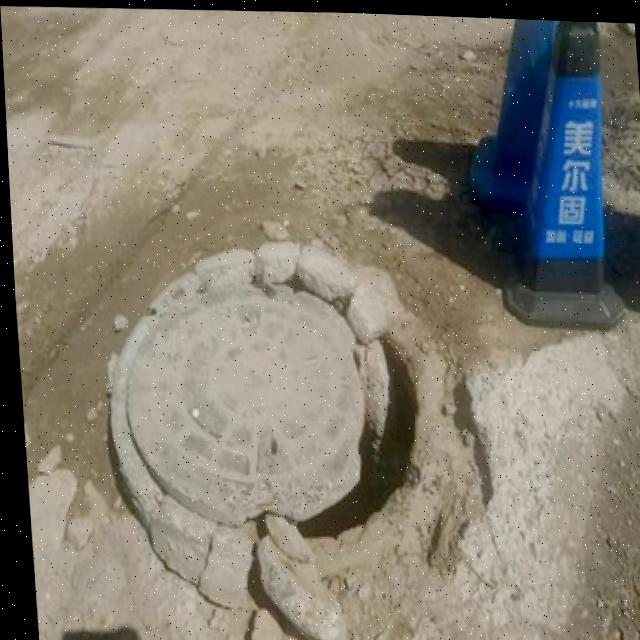manhole: (87, 222, 455, 578)
